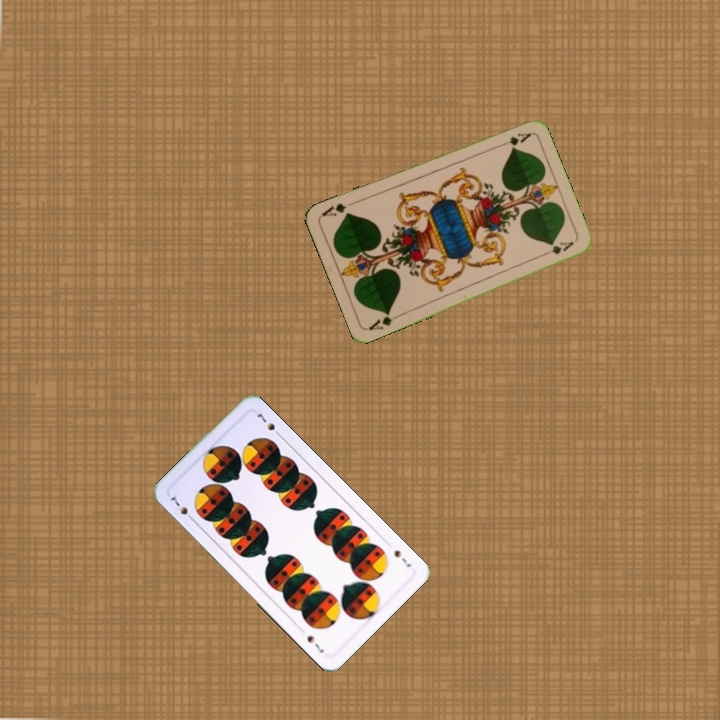GA: (364, 308, 403, 333), (494, 129, 533, 150)
S7: (165, 491, 197, 524), (390, 546, 414, 570)
